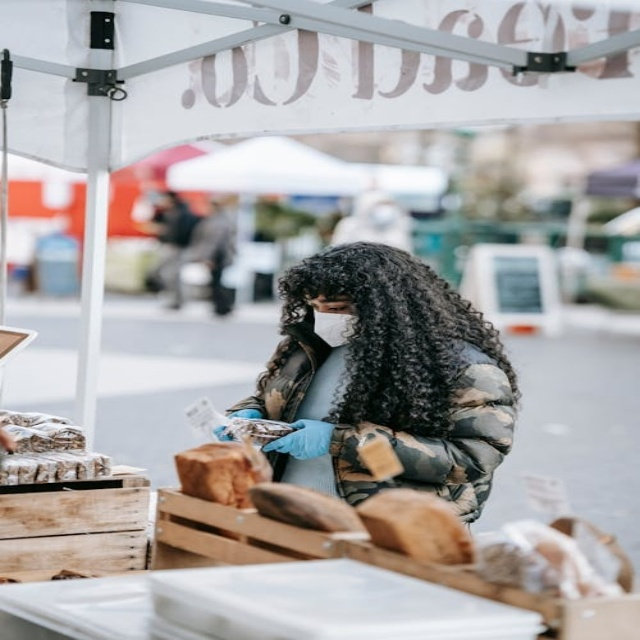Guantes: (260, 418, 336, 460), (215, 409, 263, 440)
Mascara: (308, 309, 364, 346)
Sin_gafas: (303, 295, 362, 312)
